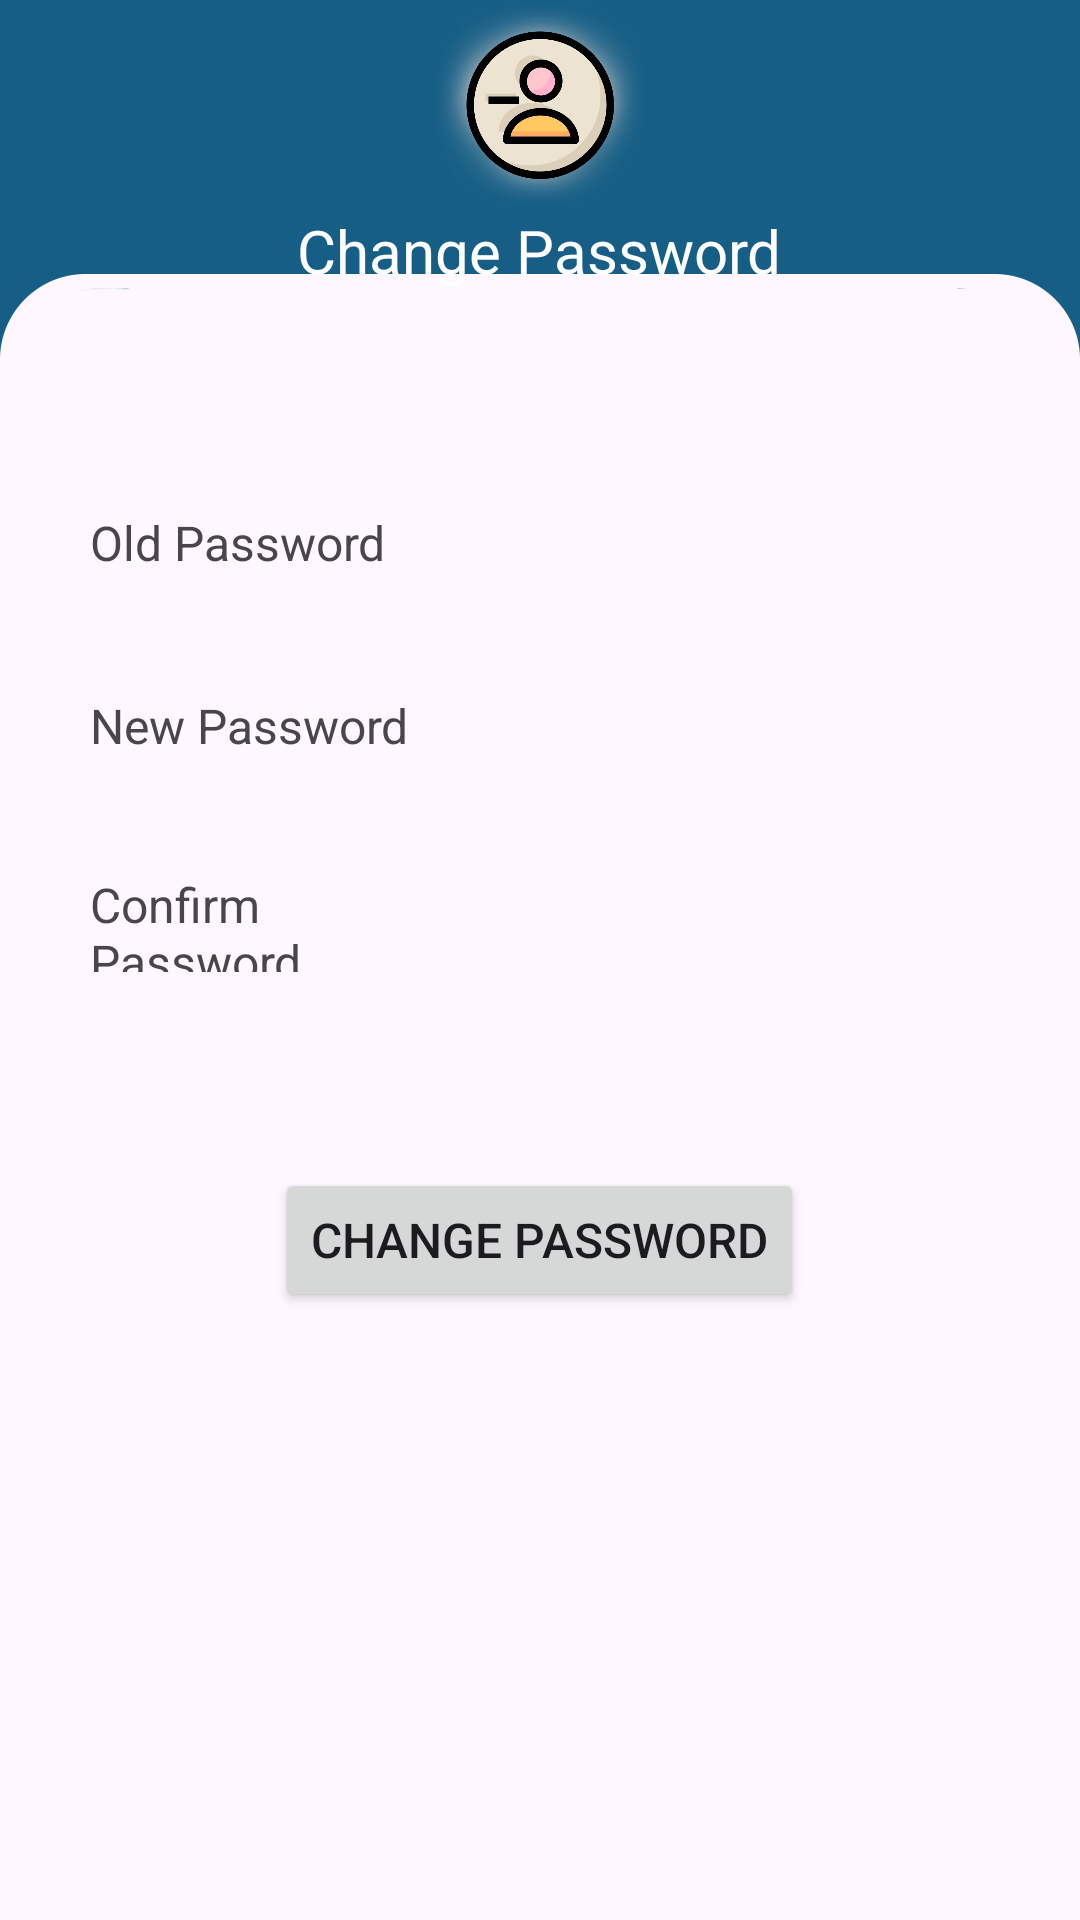

Where to tap for icons on this 1080px×1920px app screen, as [x,y]:
account: [539,104]
